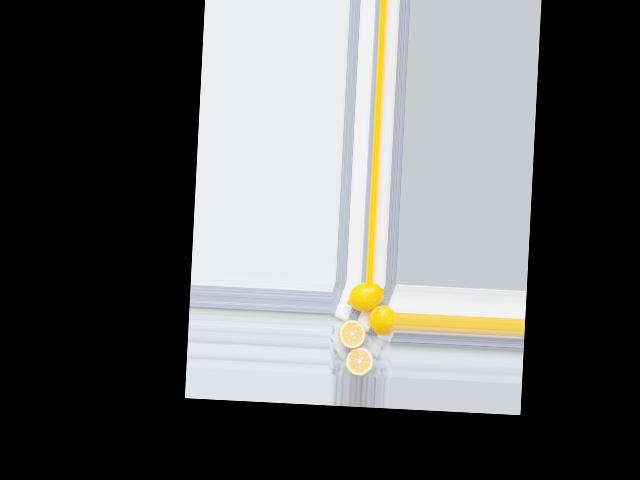lemon: (368, 304, 395, 332)
